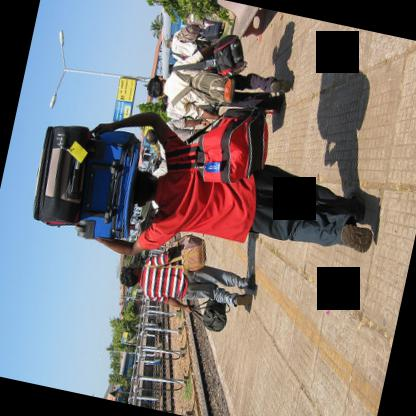backpack: (163, 104, 268, 181), (170, 68, 236, 106), (174, 23, 200, 41)
handbag: (171, 33, 243, 76), (144, 234, 206, 274), (202, 296, 225, 331)
suitcase: (75, 127, 142, 239), (34, 129, 95, 231), (205, 23, 220, 40)
